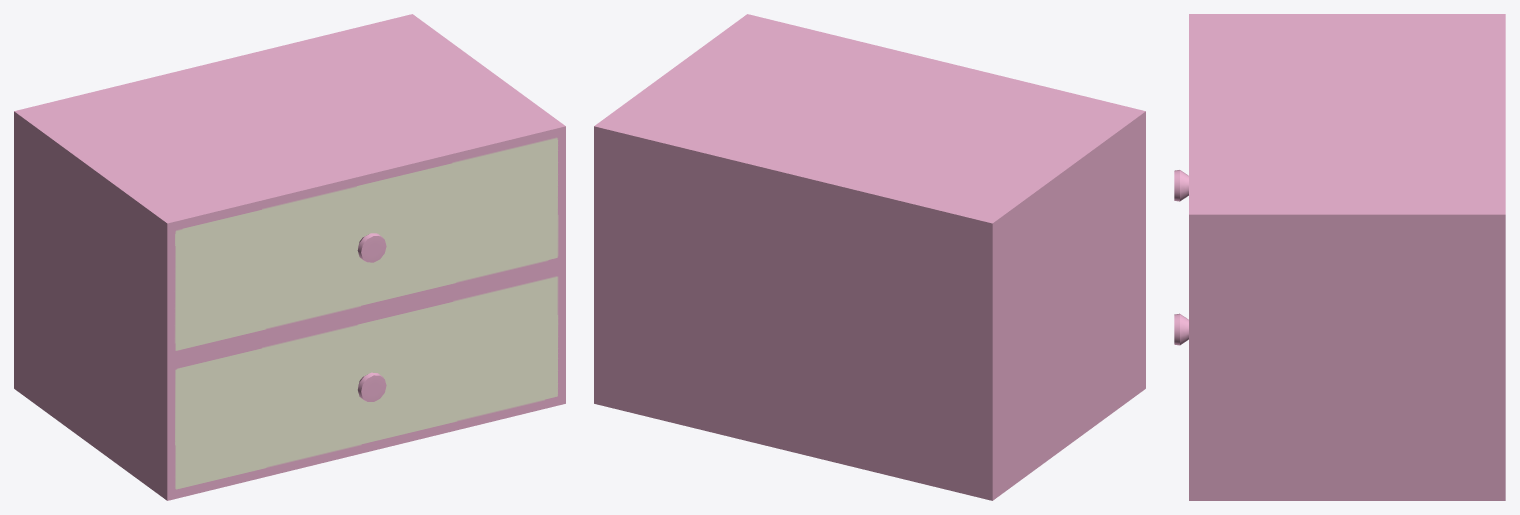
File: drawer_pink.glb
3 renders of one model, left to right at view 1: azimuth 30°, elevation 25°; view 2: azimuth 150°, elevation 25°; view 3: azimuth 270°, elevation 25°, orthographic. The views are drawn at different scales.
Visible parts, largest first — view 1: Box003; view 2: Box003; view 3: Box003.
Part boxes in pixels (bbox=[...]): Box003: bbox=[14, 14, 565, 500]; Box003: bbox=[594, 14, 1145, 500]; Box003: bbox=[1174, 14, 1505, 500].
Size of the model in its own units: 0.12 by 0.0798 by 0.0838.
1 material, 1 textured.
